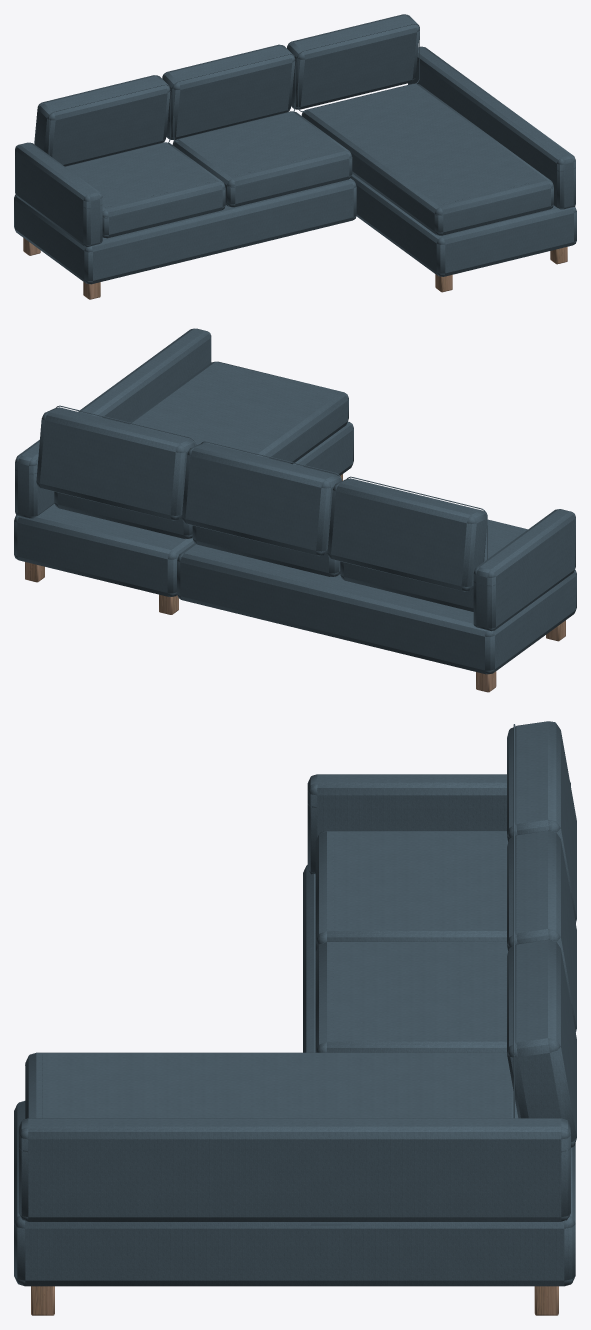
The model's file is everyday-sectional-tailored-right.glb.
The picture shows the model from 3 angles, top to bottom: view 1: azimuth 30°, elevation 25°; view 2: azimuth 150°, elevation 25°; view 3: azimuth 270°, elevation 25°; orthographic projection. The views are drawn at different scales.
Visible parts, largest first — view 1: catalog_surface_UVMap, catalog_surface_RealismUV; view 2: catalog_surface_UVMap, catalog_surface_RealismUV; view 3: catalog_surface_UVMap, catalog_surface_RealismUV.
Part boxes in pixels (x1,y1,x2,y2): catalog_surface_UVMap: [14, 14, 576, 299]; catalog_surface_RealismUV: [14, 23, 575, 250]; catalog_surface_UVMap: [14, 328, 576, 692]; catalog_surface_RealismUV: [15, 364, 576, 634]; catalog_surface_UVMap: [14, 721, 576, 1315]; catalog_surface_RealismUV: [19, 724, 570, 1225].
Bounding box in the file's own units: 2.65 × 0.9 × 1.75.
3 materials, 2 textured.
